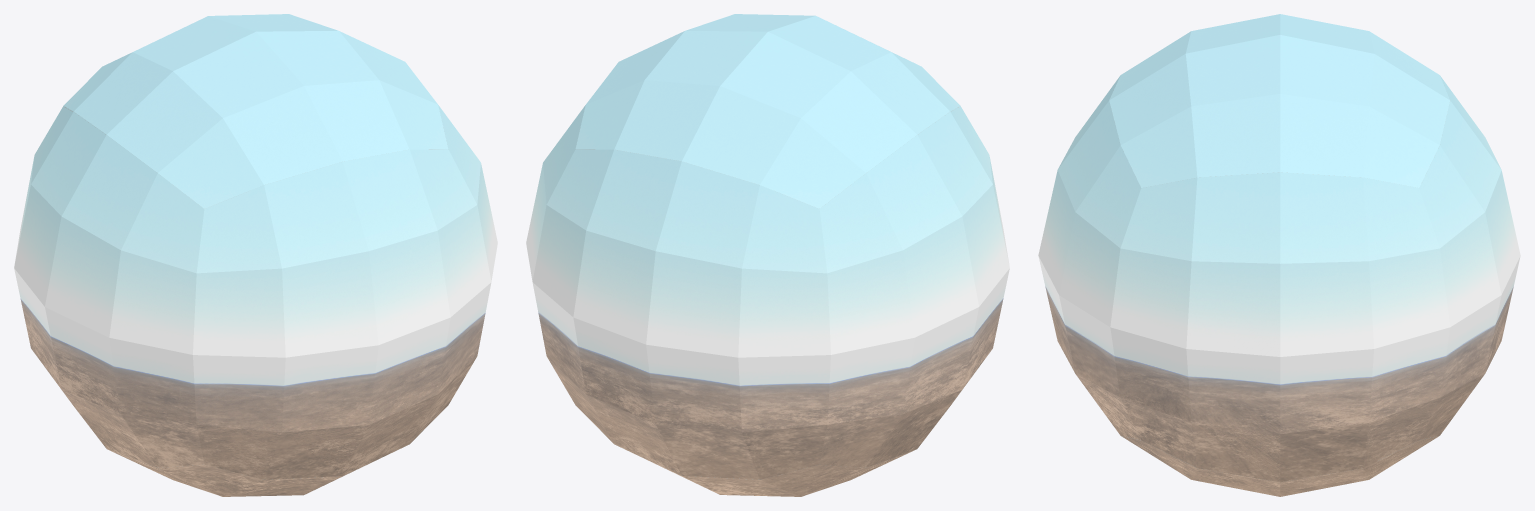
The model's file is SkyDome_12-26-2022.glb.
3 renders of one model, left to right at view 1: azimuth 30°, elevation 25°; view 2: azimuth 150°, elevation 25°; view 3: azimuth 270°, elevation 25°, orthographic.
Visible parts, largest first — view 1: SkyDome; view 2: SkyDome; view 3: SkyDome.
Part boxes in pixels (<box>): SkyDome: <box>14,14,497,496</box>; SkyDome: <box>526,14,1009,496</box>; SkyDome: <box>1038,14,1520,496</box>.
Bounding box in the file's own units: 29948 × 30339 × 30046.
Materials: 6 (6 with a texture image).
